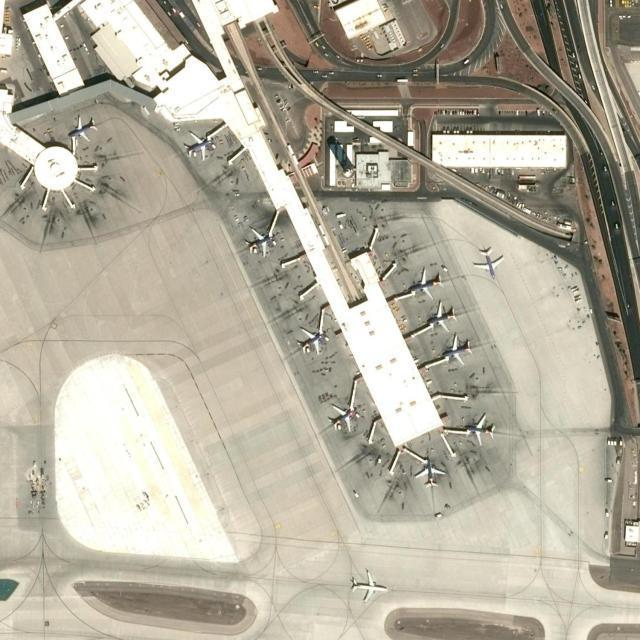Aircraft: (348, 567, 388, 603), (462, 412, 498, 446), (413, 456, 447, 490), (440, 331, 473, 365), (473, 241, 504, 277), (182, 129, 214, 162), (65, 113, 99, 144), (243, 224, 275, 256), (295, 323, 327, 355), (426, 297, 458, 329), (408, 267, 441, 298), (326, 400, 358, 430)
